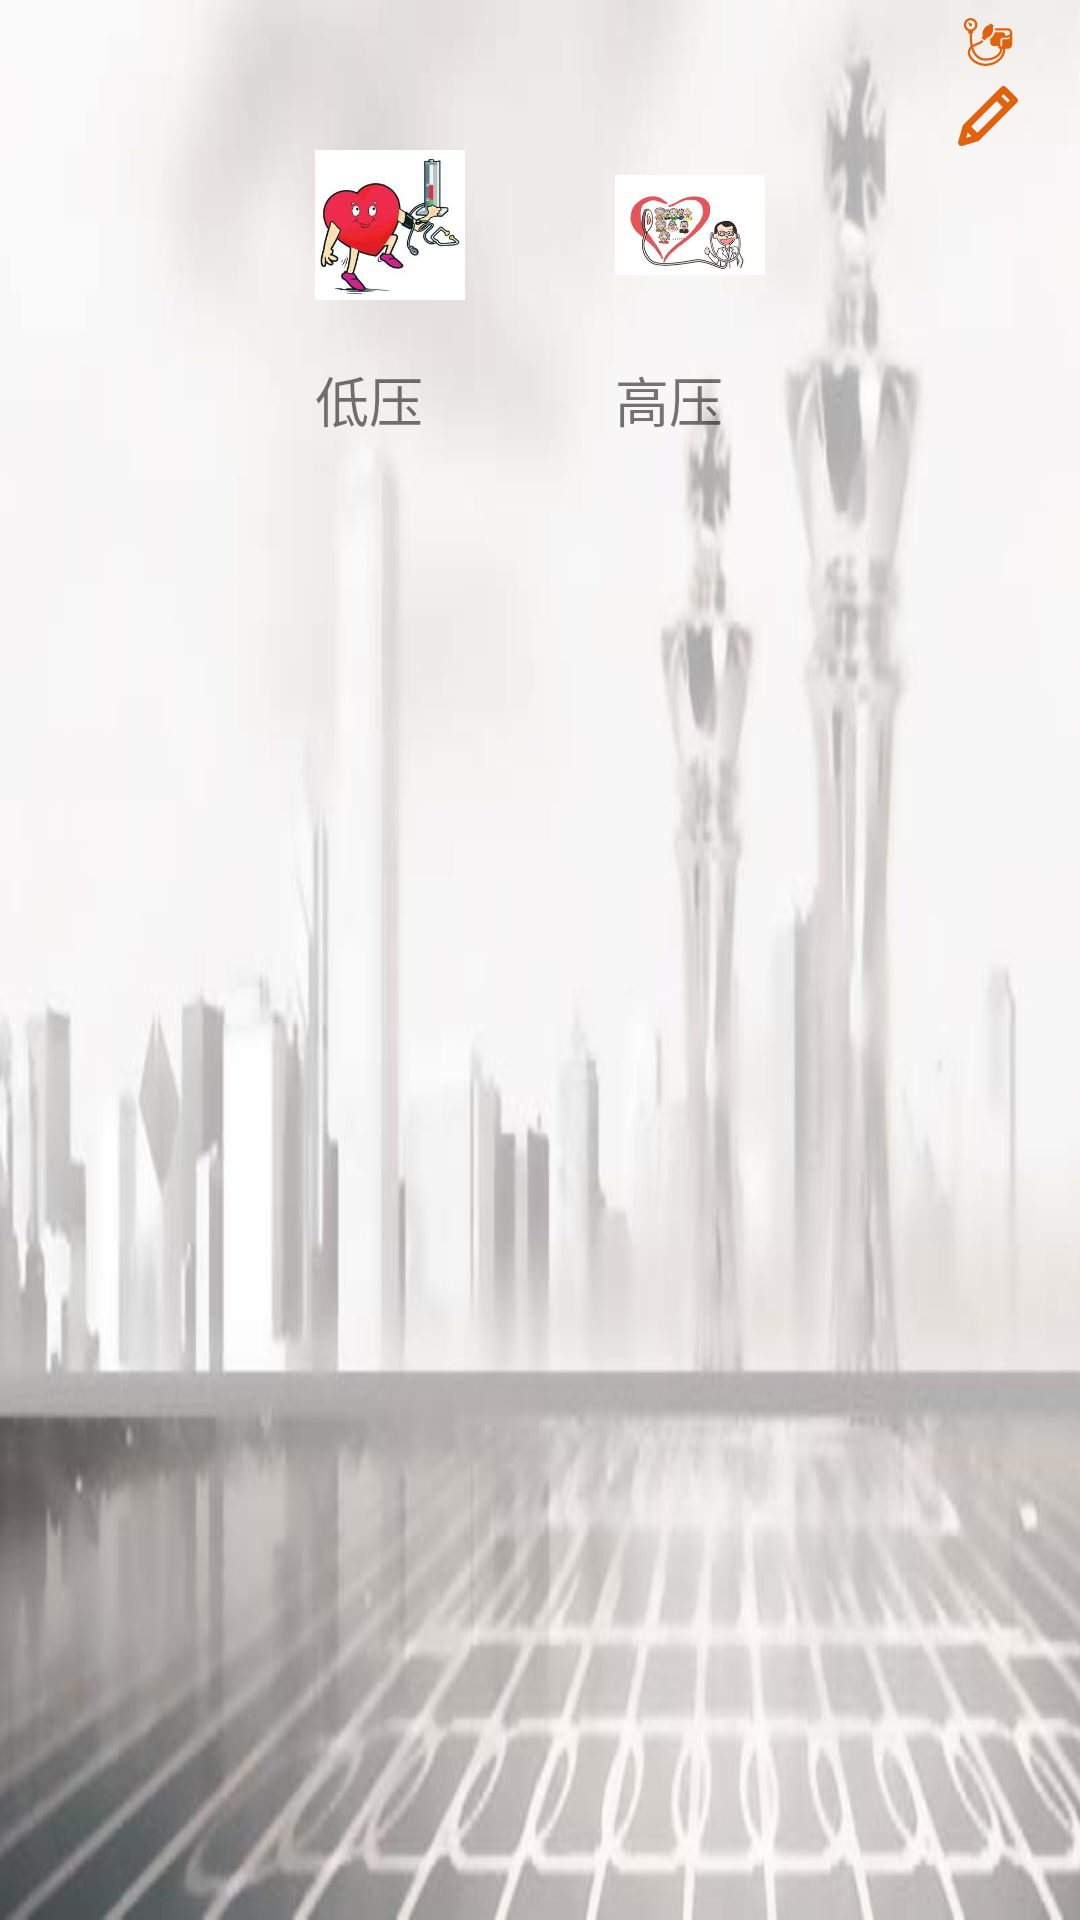

Where icons sit on this 1080px x 1920px app screen, as [left=x1, top=y1, right=x2, bottom=y2]:
high pressure: [left=615, top=150, right=765, bottom=275]
pen: [left=958, top=86, right=1018, bottom=146]
pressure: [left=315, top=150, right=465, bottom=300]
testblood: [left=963, top=18, right=1013, bottom=66]
